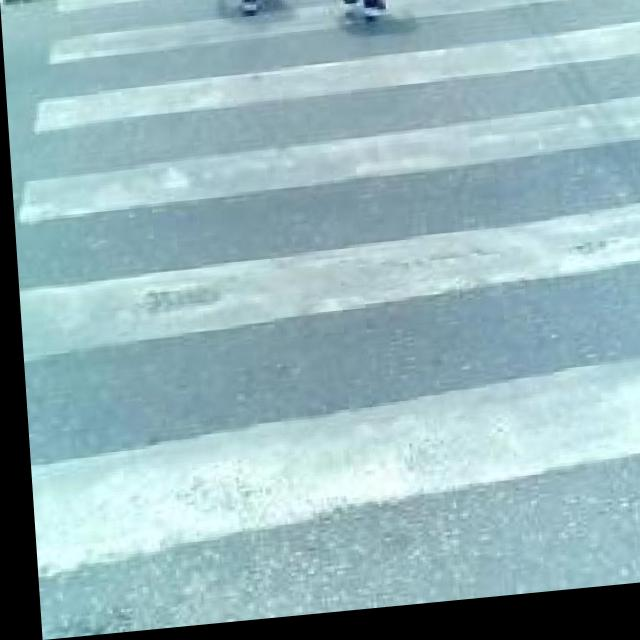zebra: (35, 35, 640, 638)
